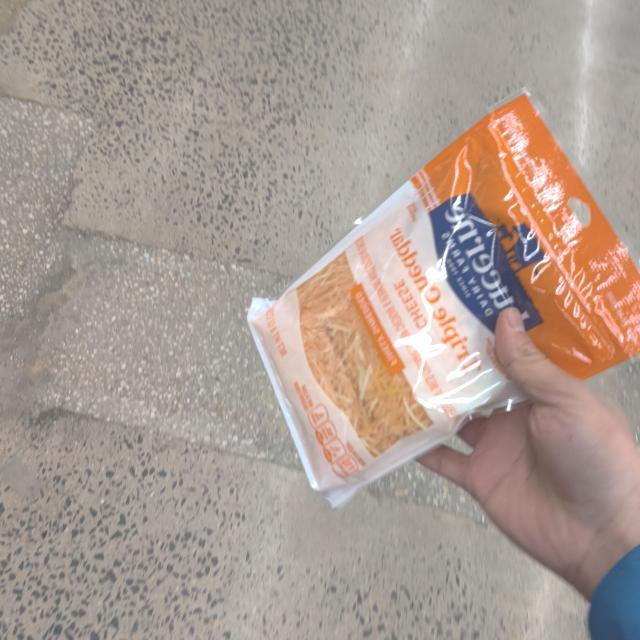Cheese: (209, 106, 636, 526)
